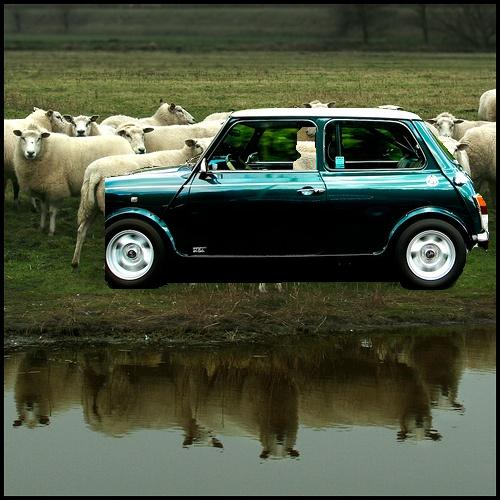tampered: (106, 109, 489, 290)
